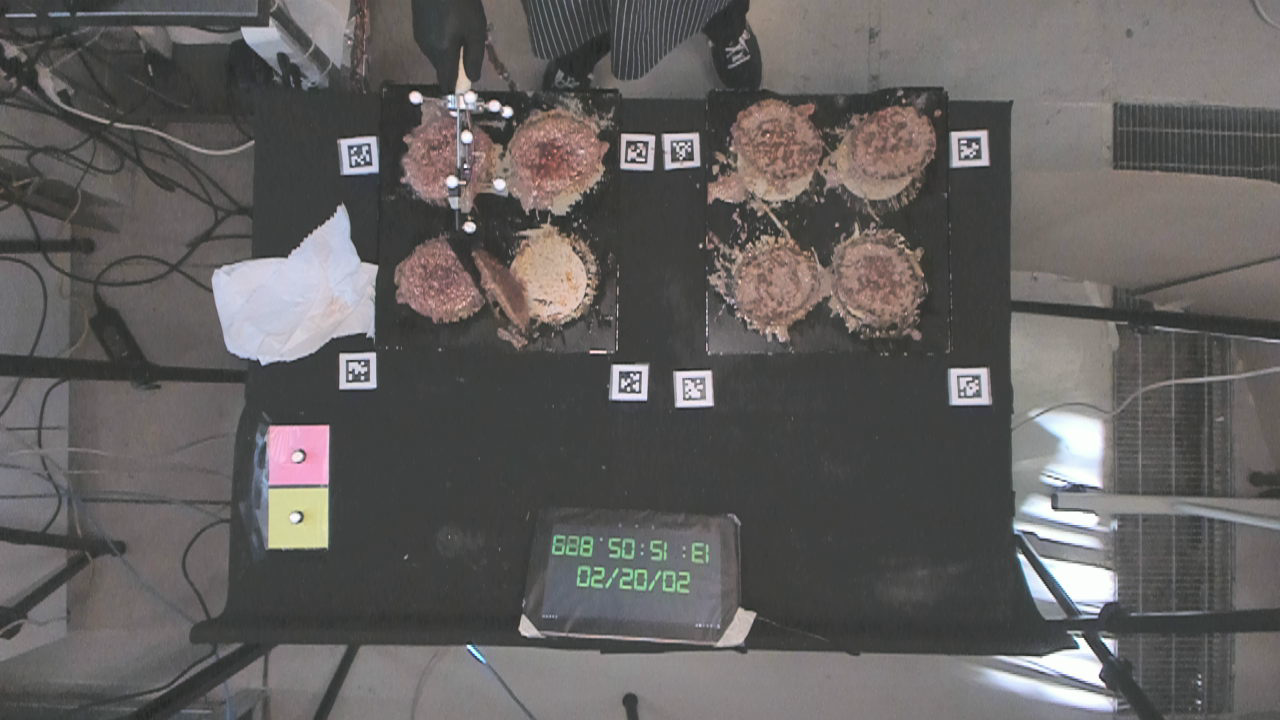hamburger: (832, 234, 923, 329), (507, 113, 607, 198), (394, 232, 484, 324), (731, 93, 824, 182), (846, 104, 934, 180), (406, 113, 484, 192), (735, 250, 816, 323), (473, 250, 537, 332)
marker: (269, 426, 329, 486)
